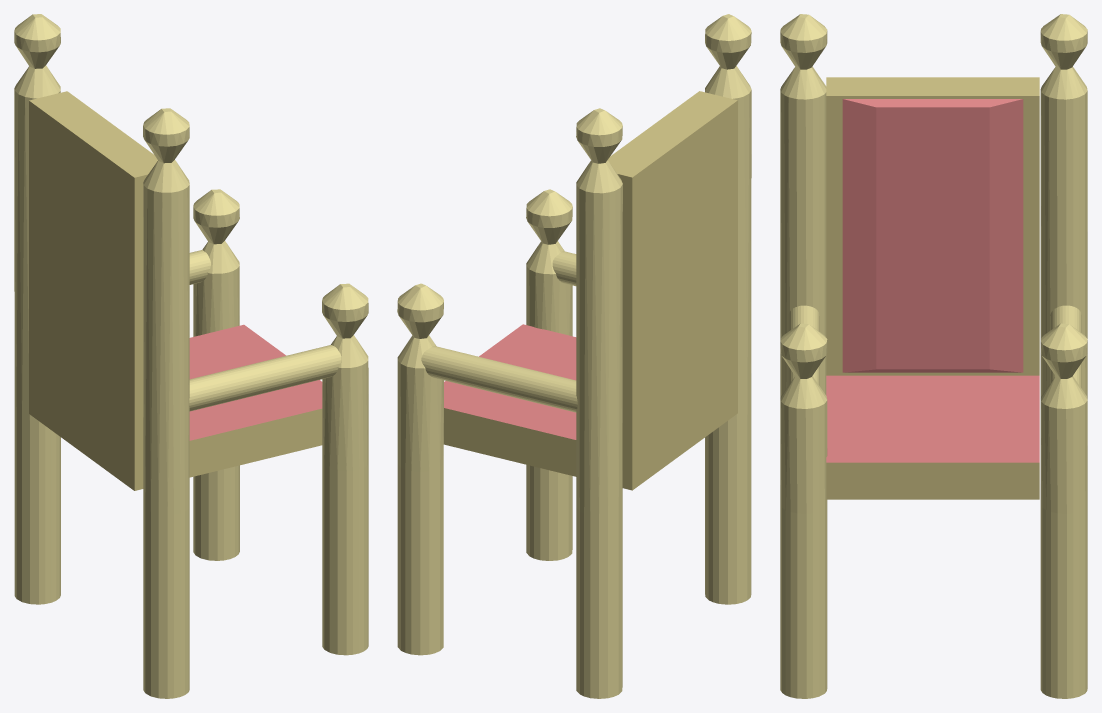
Rendered from taht.fbx.
3 renders of one model, left to right at view 1: azimuth 30°, elevation 25°; view 2: azimuth 150°, elevation 25°; view 3: azimuth 270°, elevation 25°, orthographic.
Parts seen in each view (by area): view 1: Kollar ve ayaklar, Oturak; view 2: Kollar ve ayaklar, Oturak; view 3: Oturak, Kollar ve ayaklar.
Part boxes in pixels (x1,y1,x2,y2): Kollar ve ayaklar: (14,14,368,698); Oturak: (29,91,322,490); Kollar ve ayaklar: (397,14,751,698); Oturak: (444,91,737,490); Oturak: (826,77,1039,499); Kollar ve ayaklar: (780,14,1087,698).
Size of the model in its own units: 241 by 605 by 288.
